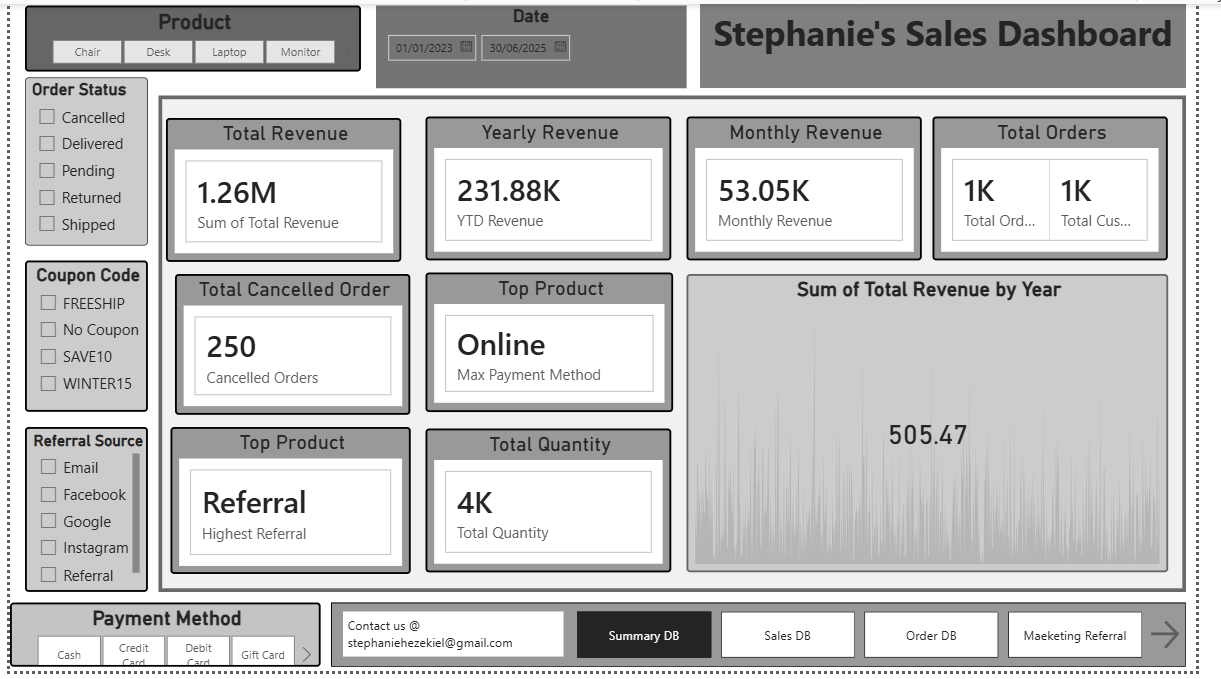

Layout of this report page (visuals, bound fields, positions):
{"tool":"powerbi","page":{"name":"Summary DB","canvas":[1280,720],"ordinal":0},"visuals":[{"type":"textbox","box":[744.8,0,524.6,90.7],"z":0},{"type":"slicer","title":"Order Status","fields":{"Values":["Sheet.OrderStatus"]},"box":[16.2,79.3,132.8,181.4],"z":1000},{"type":"slicer","title":"Referral Source","fields":{"Values":["Sheet.ReferralSource"]},"box":[16.2,456.6,132.8,178.1],"z":2000},{"type":"slicer","title":"Coupon Code","fields":{"Values":["Sheet.CouponCode"]},"box":[16.2,276.9,132.8,163.5],"z":3000},{"type":"slicer","title":"Payment Method","fields":{"Values":["Sheet.PaymentMethod"]},"box":[0,646.1,335.2,69.6],"z":4000},{"type":"slicer","title":"Product","fields":{"Values":["Sheet.Product"]},"box":[16.2,1.6,362.7,71.2],"z":5000},{"type":"shape","box":[346.5,646.1,923,69.6],"z":6000},{"type":"shape","box":[160.3,98.8,1109.2,536],"z":7000},{"type":"slicer","title":"Date","fields":{"Values":["Sheet.Date"]},"box":[395.1,1.6,335.2,89.1],"z":8000},{"type":"cardVisual","title":"Total Revenue","fields":{"Data":["Sum(Sheet.Total Revenue)"]},"box":[168.4,123.1,254.2,155.4],"z":9000},{"type":"cardVisual","title":"Total Orders","fields":{"Data":["Sheet.Total Orders","Sheet.Total Customers"]},"box":[995.8,121.4,254.2,155.4],"z":10000},{"type":"cardVisual","title":"Yearly Revenue","fields":{"Data":["Sheet.YTD Revenue"]},"box":[448.5,121.4,265.6,155.4],"z":11000},{"type":"cardVisual","title":"Total Cancelled Order","fields":{"Data":["Sheet.Cancelled Orders"]},"box":[178.1,291.5,254.2,152.2],"z":12000},{"type":"cardVisual","title":"Top Product","fields":{"Data":["Sheet.Highest Referral"]},"box":[173.3,456.6,259.1,158.7],"z":13000},{"type":"cardVisual","title":"Top Product","fields":{"Data":["Sheet.Max Payment Method"]},"box":[448.5,289.8,267.2,150.6],"z":14000},{"type":"cardVisual","title":"Monthly Revenue","fields":{"Data":["Sheet.Monthly Revenue"]},"box":[730.3,121.4,254.2,155.4],"z":15000},{"type":"cardVisual","title":"Total Quantity","fields":{"Data":["Sheet.Total Quantity"]},"box":[448.5,458.2,265.6,155.4],"z":16000},{"type":"kpi","title":"Sum of Total Revenue by Year","fields":{"TrendLine":["Sheet.Date.Variation.Date Hierarchy.Year"],"Indicator":["Sum(Sheet.Total Revenue)"]},"box":[730.3,291.5,519.8,322.2],"z":17000},{"type":"actionButton","box":[1225.8,660.6,43.7,40.5],"z":18000},{"type":"pageNavigator","box":[612.1,655.8,613.7,50.2],"z":19000},{"type":"actionButton","box":[378.9,663.9,100.4,40.5],"z":20000},{"type":"textbox","box":[359.5,655.8,238,48.6],"z":21000}]}

Visuals, with their boxes in screenshot pixels (x1, y1, x2, y2), scaled from the page's 1280x720 canvas onto the 1221x679 screenshot:
textbox: detection(710, 0, 1211, 86)
"Order Status" slicer: detection(15, 75, 142, 246)
"Referral Source" slicer: detection(15, 431, 142, 599)
"Coupon Code" slicer: detection(15, 261, 142, 415)
"Payment Method" slicer: detection(0, 609, 320, 675)
"Product" slicer: detection(15, 2, 361, 69)
shape: detection(331, 609, 1211, 675)
shape: detection(153, 93, 1211, 599)
"Date" slicer: detection(377, 2, 697, 86)
"Total Revenue" cardVisual: detection(161, 116, 403, 263)
"Total Orders" cardVisual: detection(950, 114, 1192, 261)
"Yearly Revenue" cardVisual: detection(428, 114, 681, 261)
"Total Cancelled Order" cardVisual: detection(170, 275, 412, 418)
"Top Product" cardVisual: detection(165, 431, 412, 580)
"Top Product" cardVisual: detection(428, 273, 683, 415)
"Monthly Revenue" cardVisual: detection(697, 114, 939, 261)
"Total Quantity" cardVisual: detection(428, 432, 681, 579)
"Sum of Total Revenue by Year" kpi: detection(697, 275, 1192, 579)
actionButton: detection(1169, 623, 1211, 661)
pageNavigator: detection(584, 618, 1169, 666)
actionButton: detection(361, 626, 457, 664)
textbox: detection(343, 618, 570, 664)
